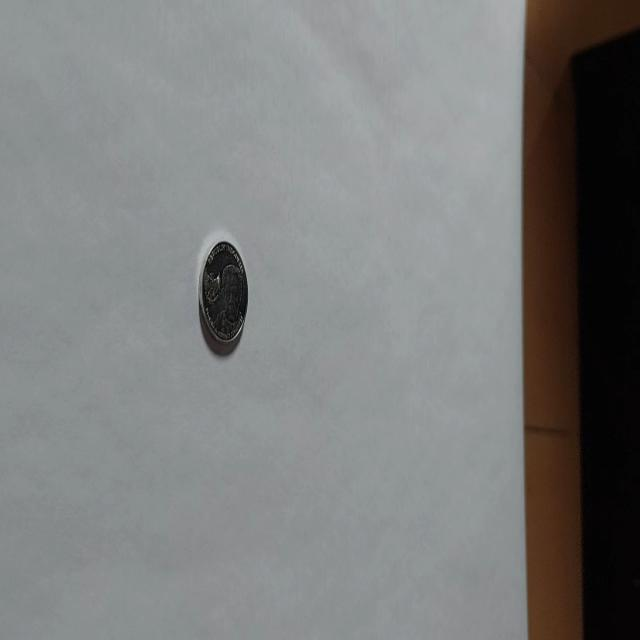seratus rupiah: (198, 238, 248, 349)
